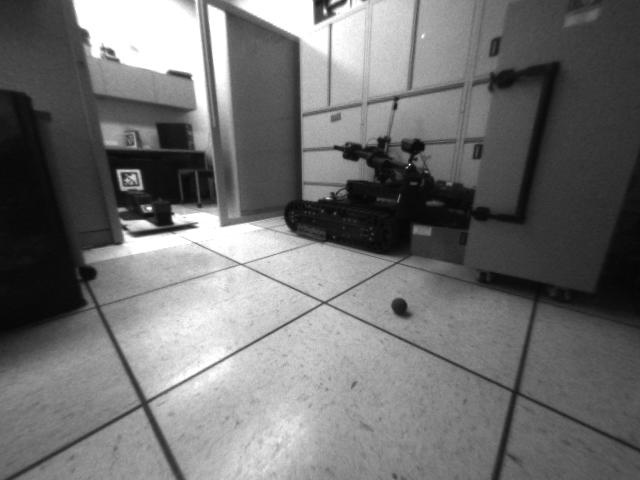dogtoy: (386, 287, 417, 324)
